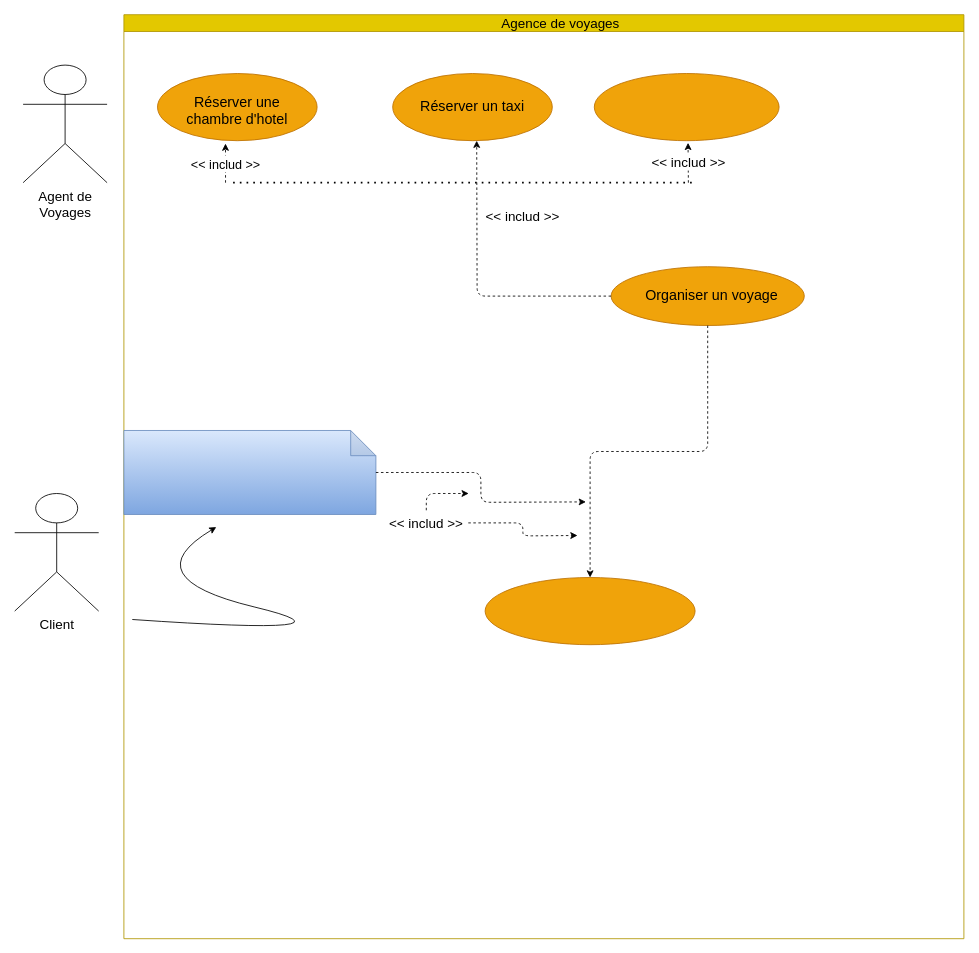
Some shapes in this 979 by 953 pixel diagram are drawn without their labels. Here are the shapes that lost their labels. From the top down, the centre of each, then its label:
At (x=686, y=107): "Réserver un billet de trein".
At (x=249, y=472): "condition: (à la demande du client) point d'extension : établir une facture".
At (x=589, y=611): "Etablir une facture détaillé".
